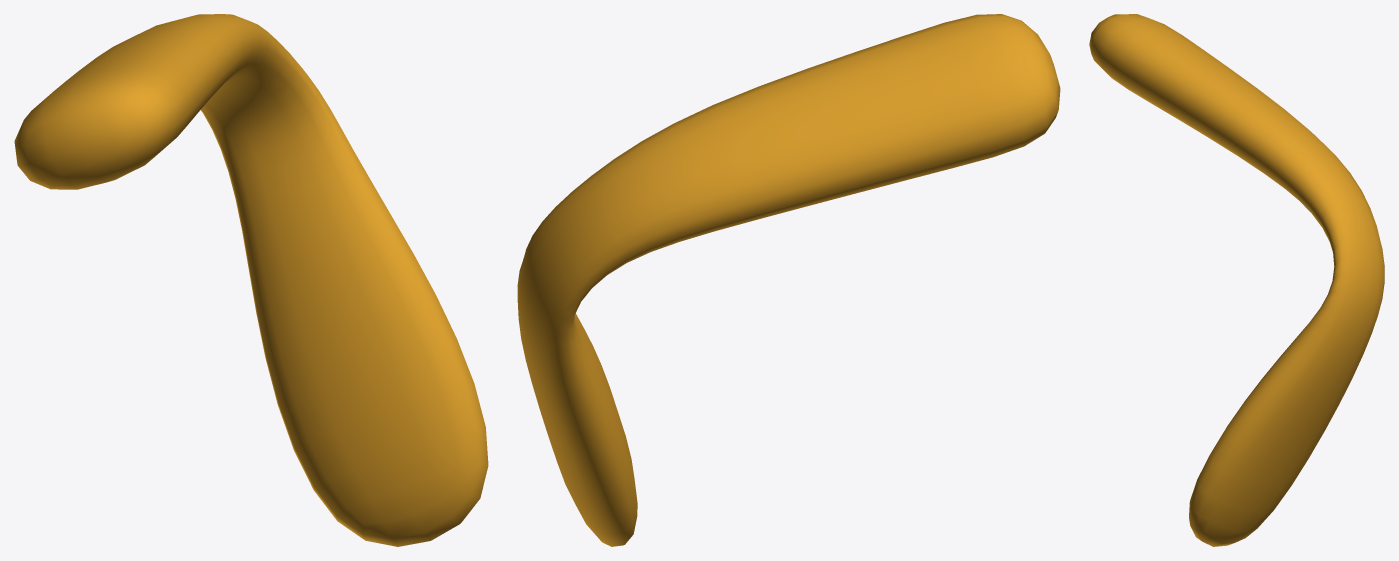
3 views of the same model, side by side, from view 1: azimuth 30°, elevation 25°; view 2: azimuth 150°, elevation 25°; view 3: azimuth 270°, elevation 25° (orthographic). The views are drawn at different scales.
Parts seen in each view (by area): view 1: Cube.1438; view 2: Cube.1438; view 3: Cube.1438.
Boxes of the visible parts, x1,y1,x2,y2 form: Cube.1438: (14, 14, 488, 546); Cube.1438: (517, 14, 1060, 546); Cube.1438: (1089, 14, 1384, 546).
Size of the model in its own units: 0.2183 by 0.249 by 0.1632.
Materials: 1 (1 with a texture image).
